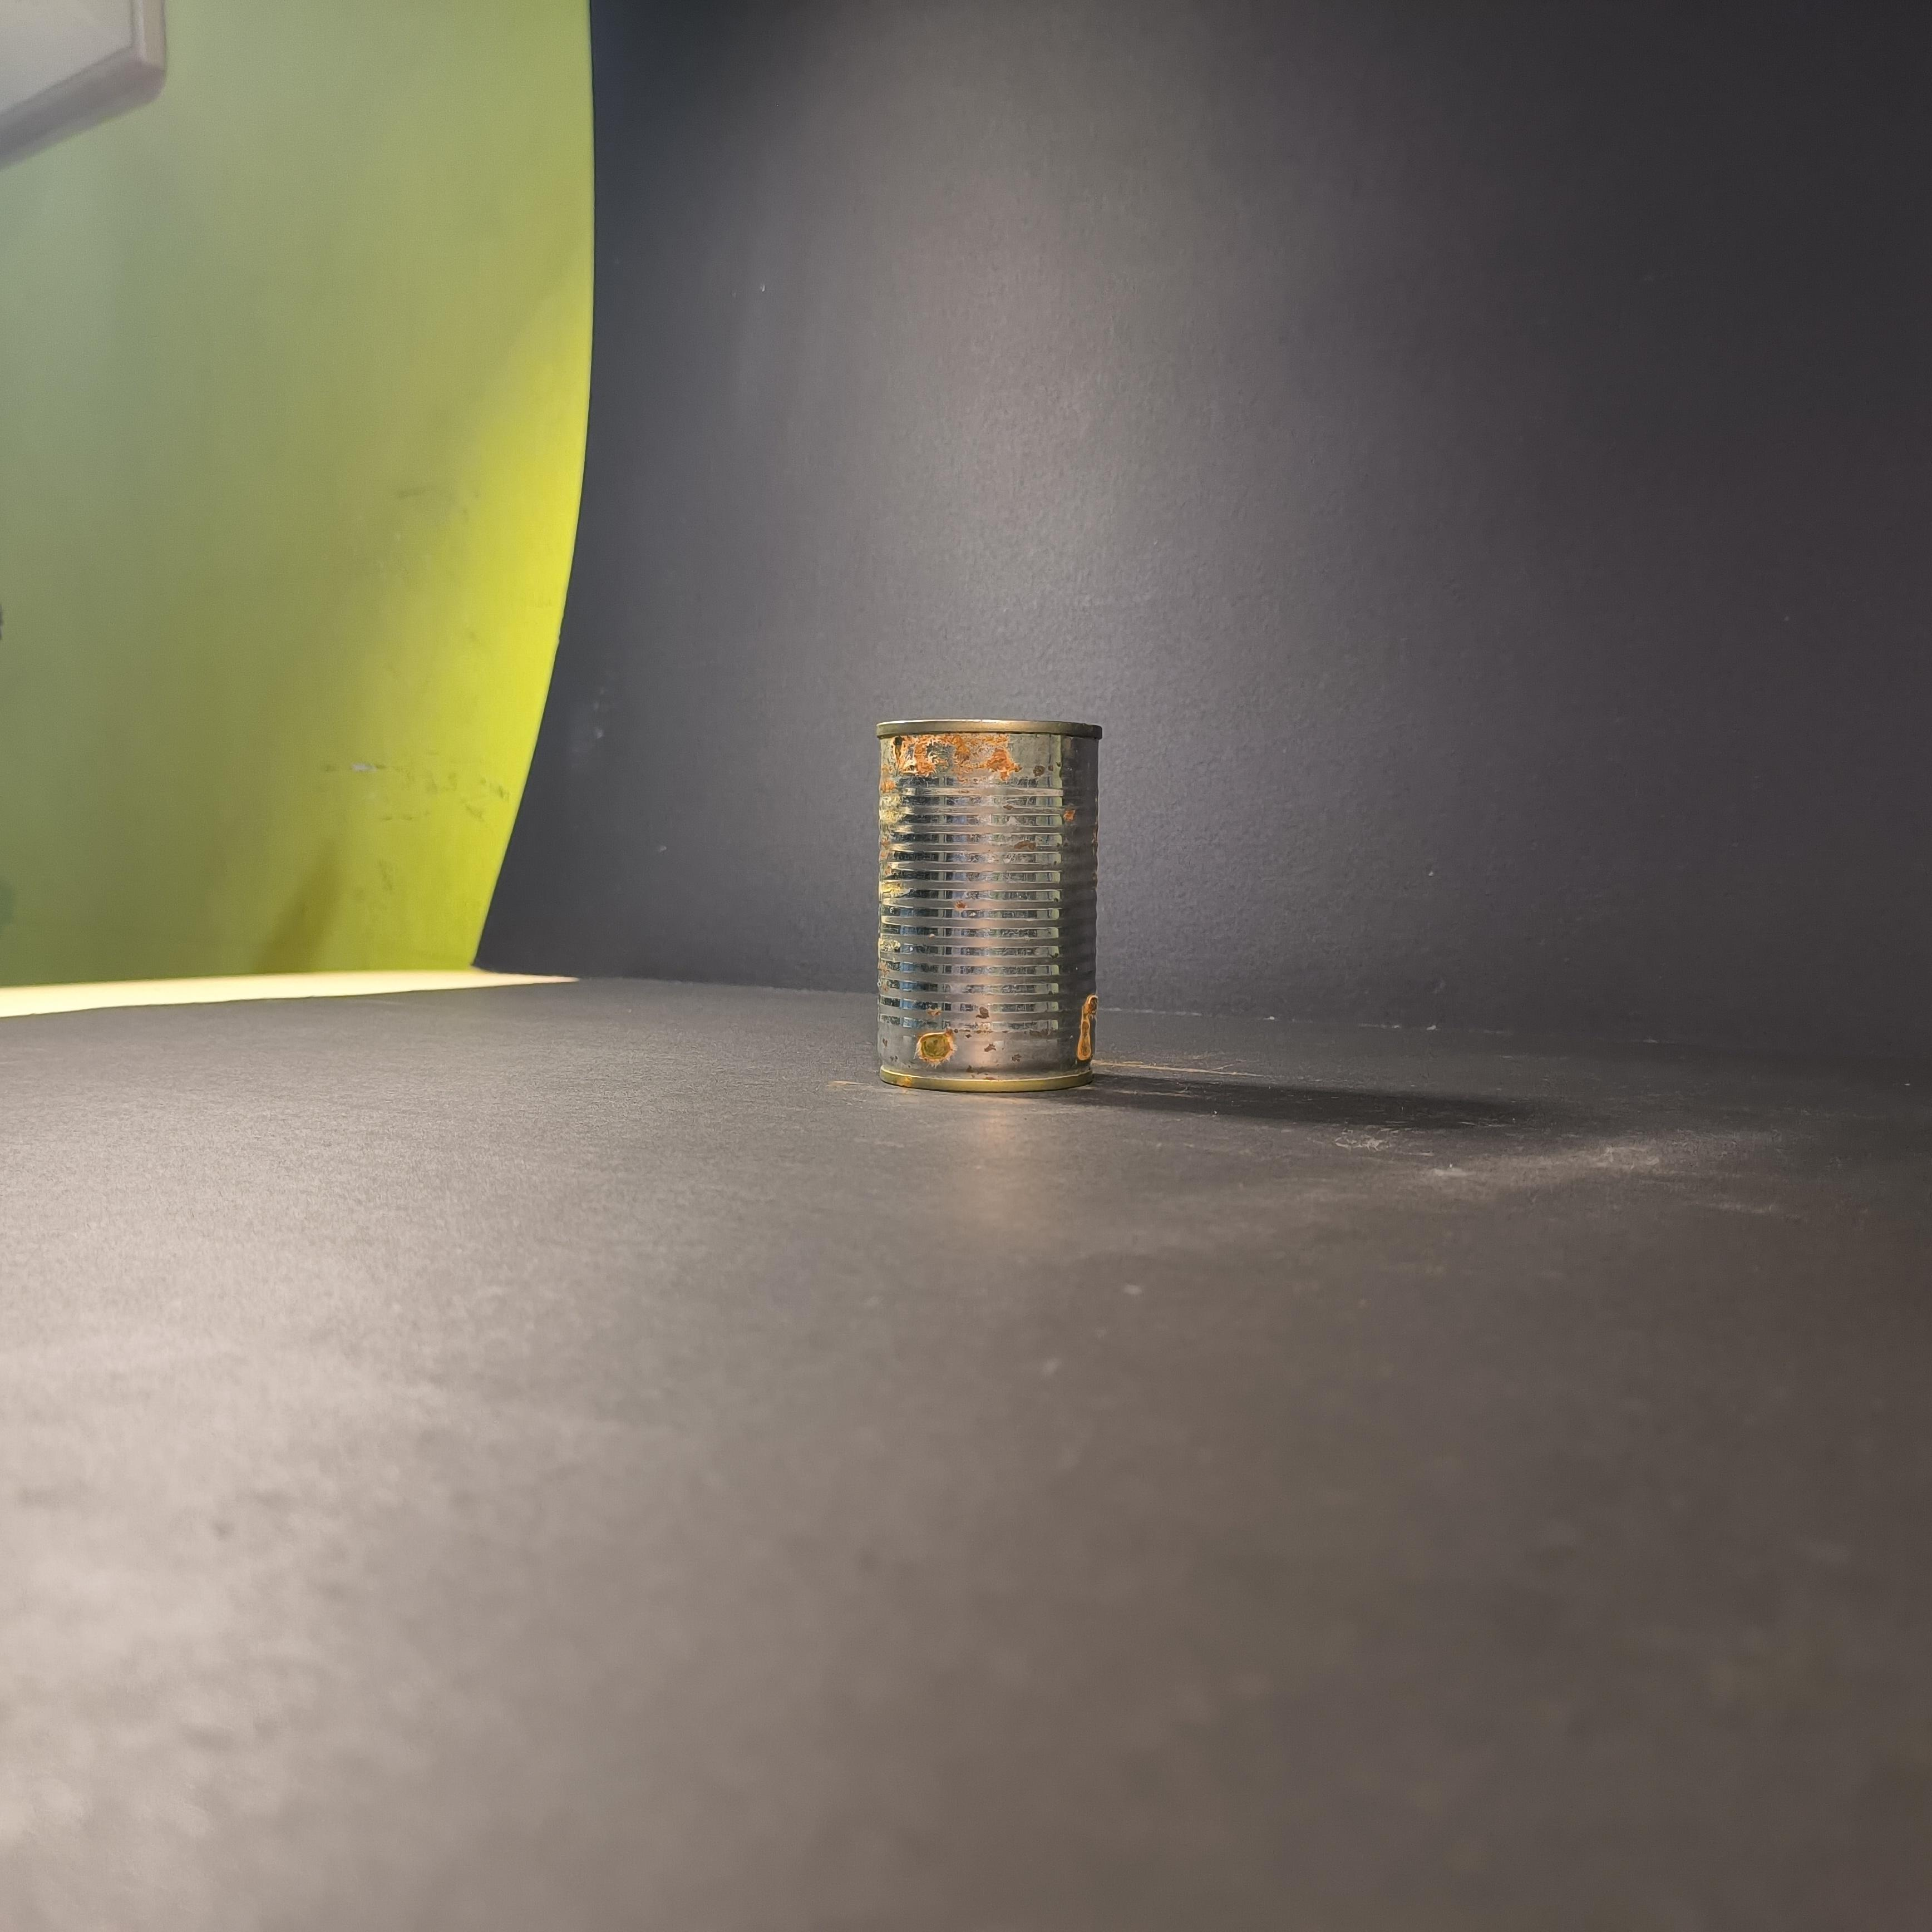Rusted: (860, 686, 1108, 1093)
